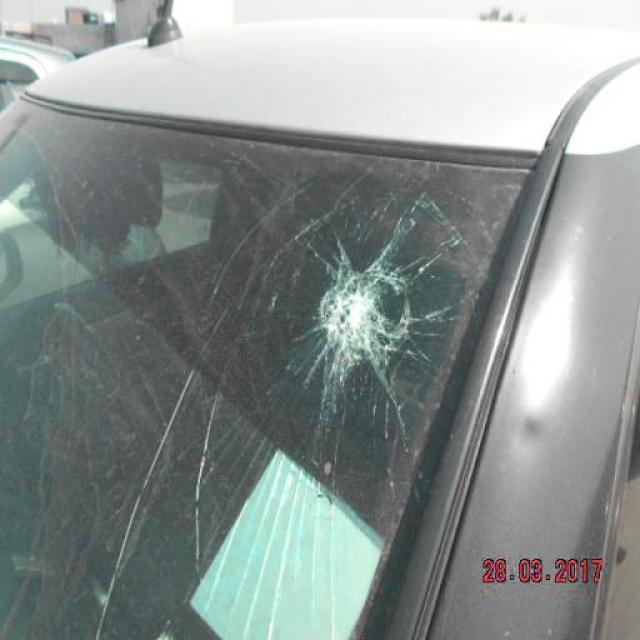car damage: (314, 256, 414, 373)
